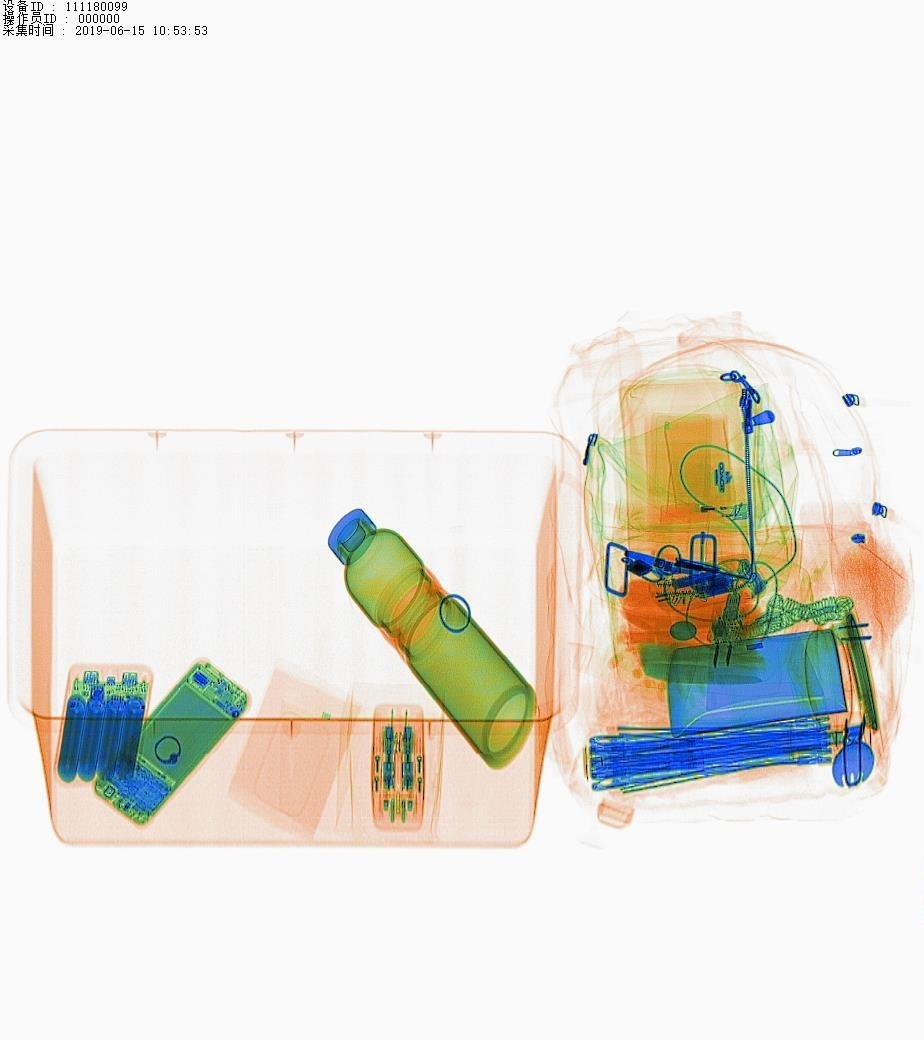NonmetallicFire: (641, 492, 765, 534)
